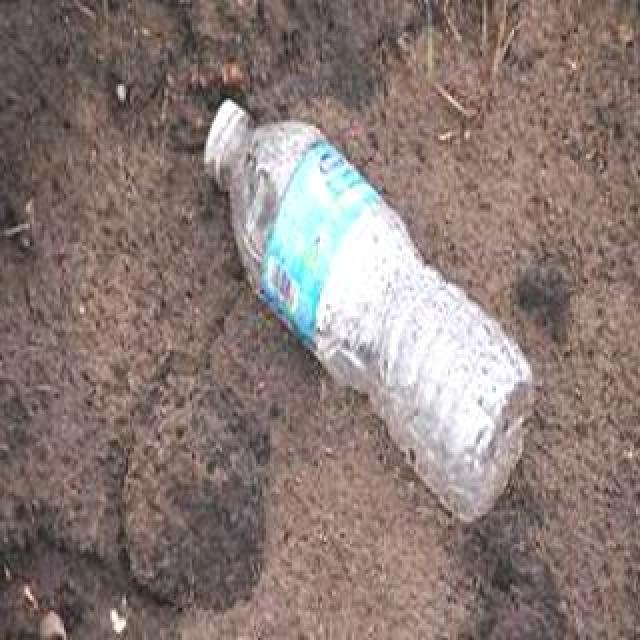Pet_Bottle: (202, 95, 532, 523)
